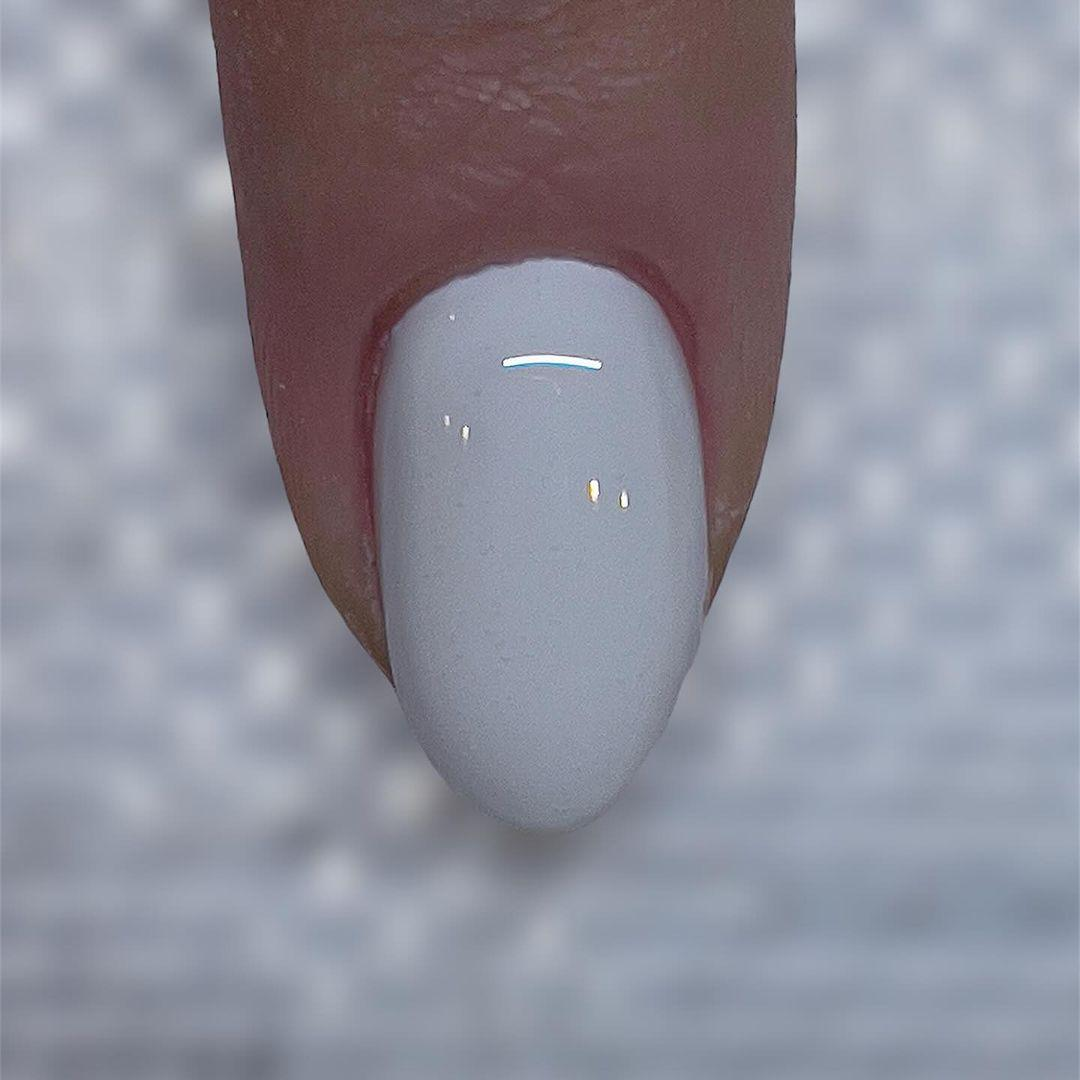nail: (207, 0, 799, 834), (368, 250, 712, 834), (500, 352, 602, 371)
